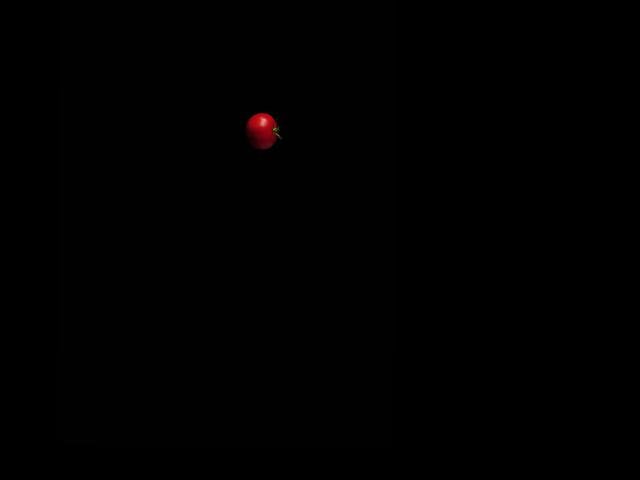tomato: (246, 113, 277, 149)
